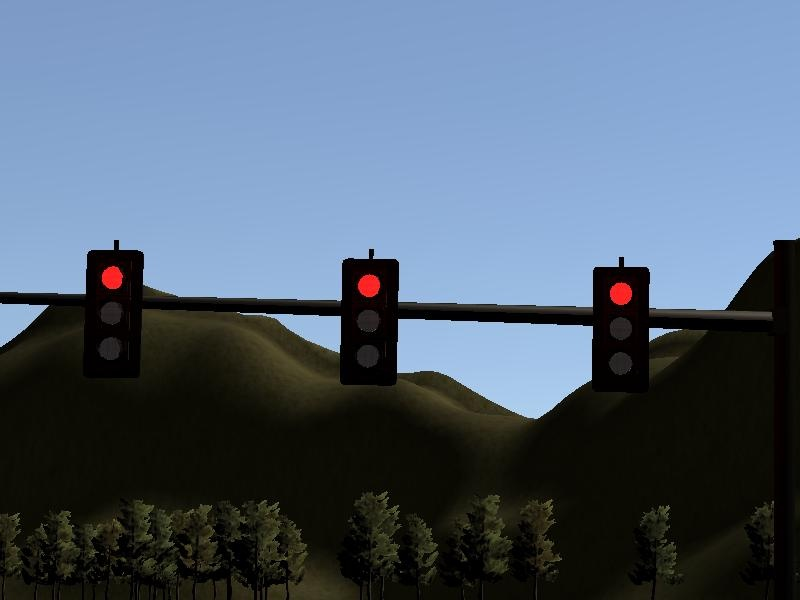RED: (340, 259, 398, 384), (592, 266, 650, 391), (84, 251, 142, 376)
